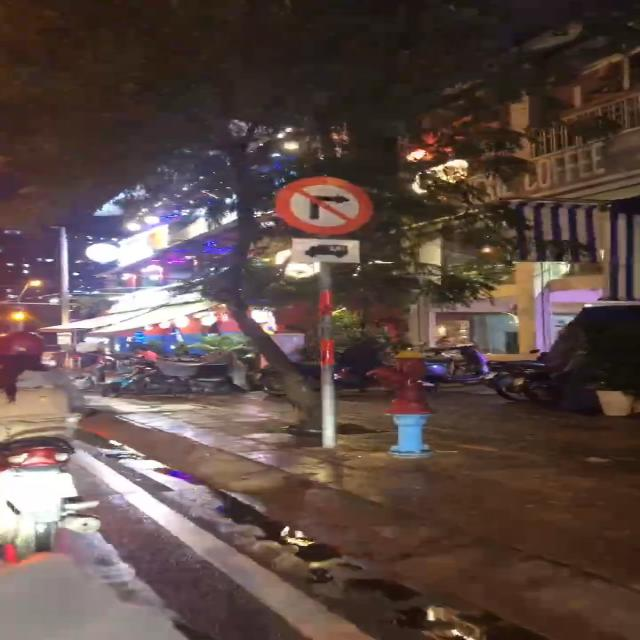Bien bao cam re phai: (266, 174, 380, 238)
